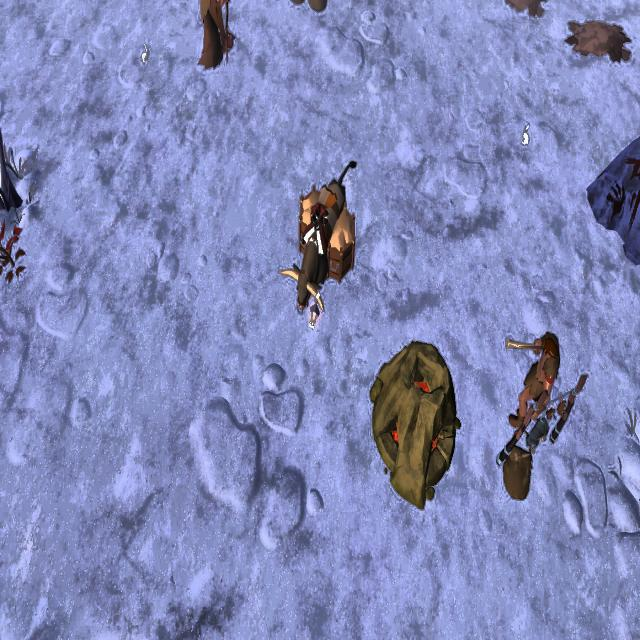enemy_factionKeeper: (502, 324, 562, 440), (191, 0, 235, 73)
